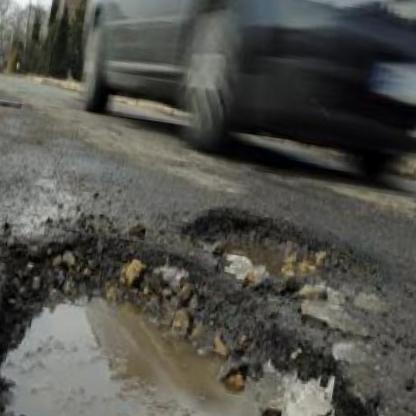pothole: (0, 204, 416, 416), (174, 197, 393, 313)
